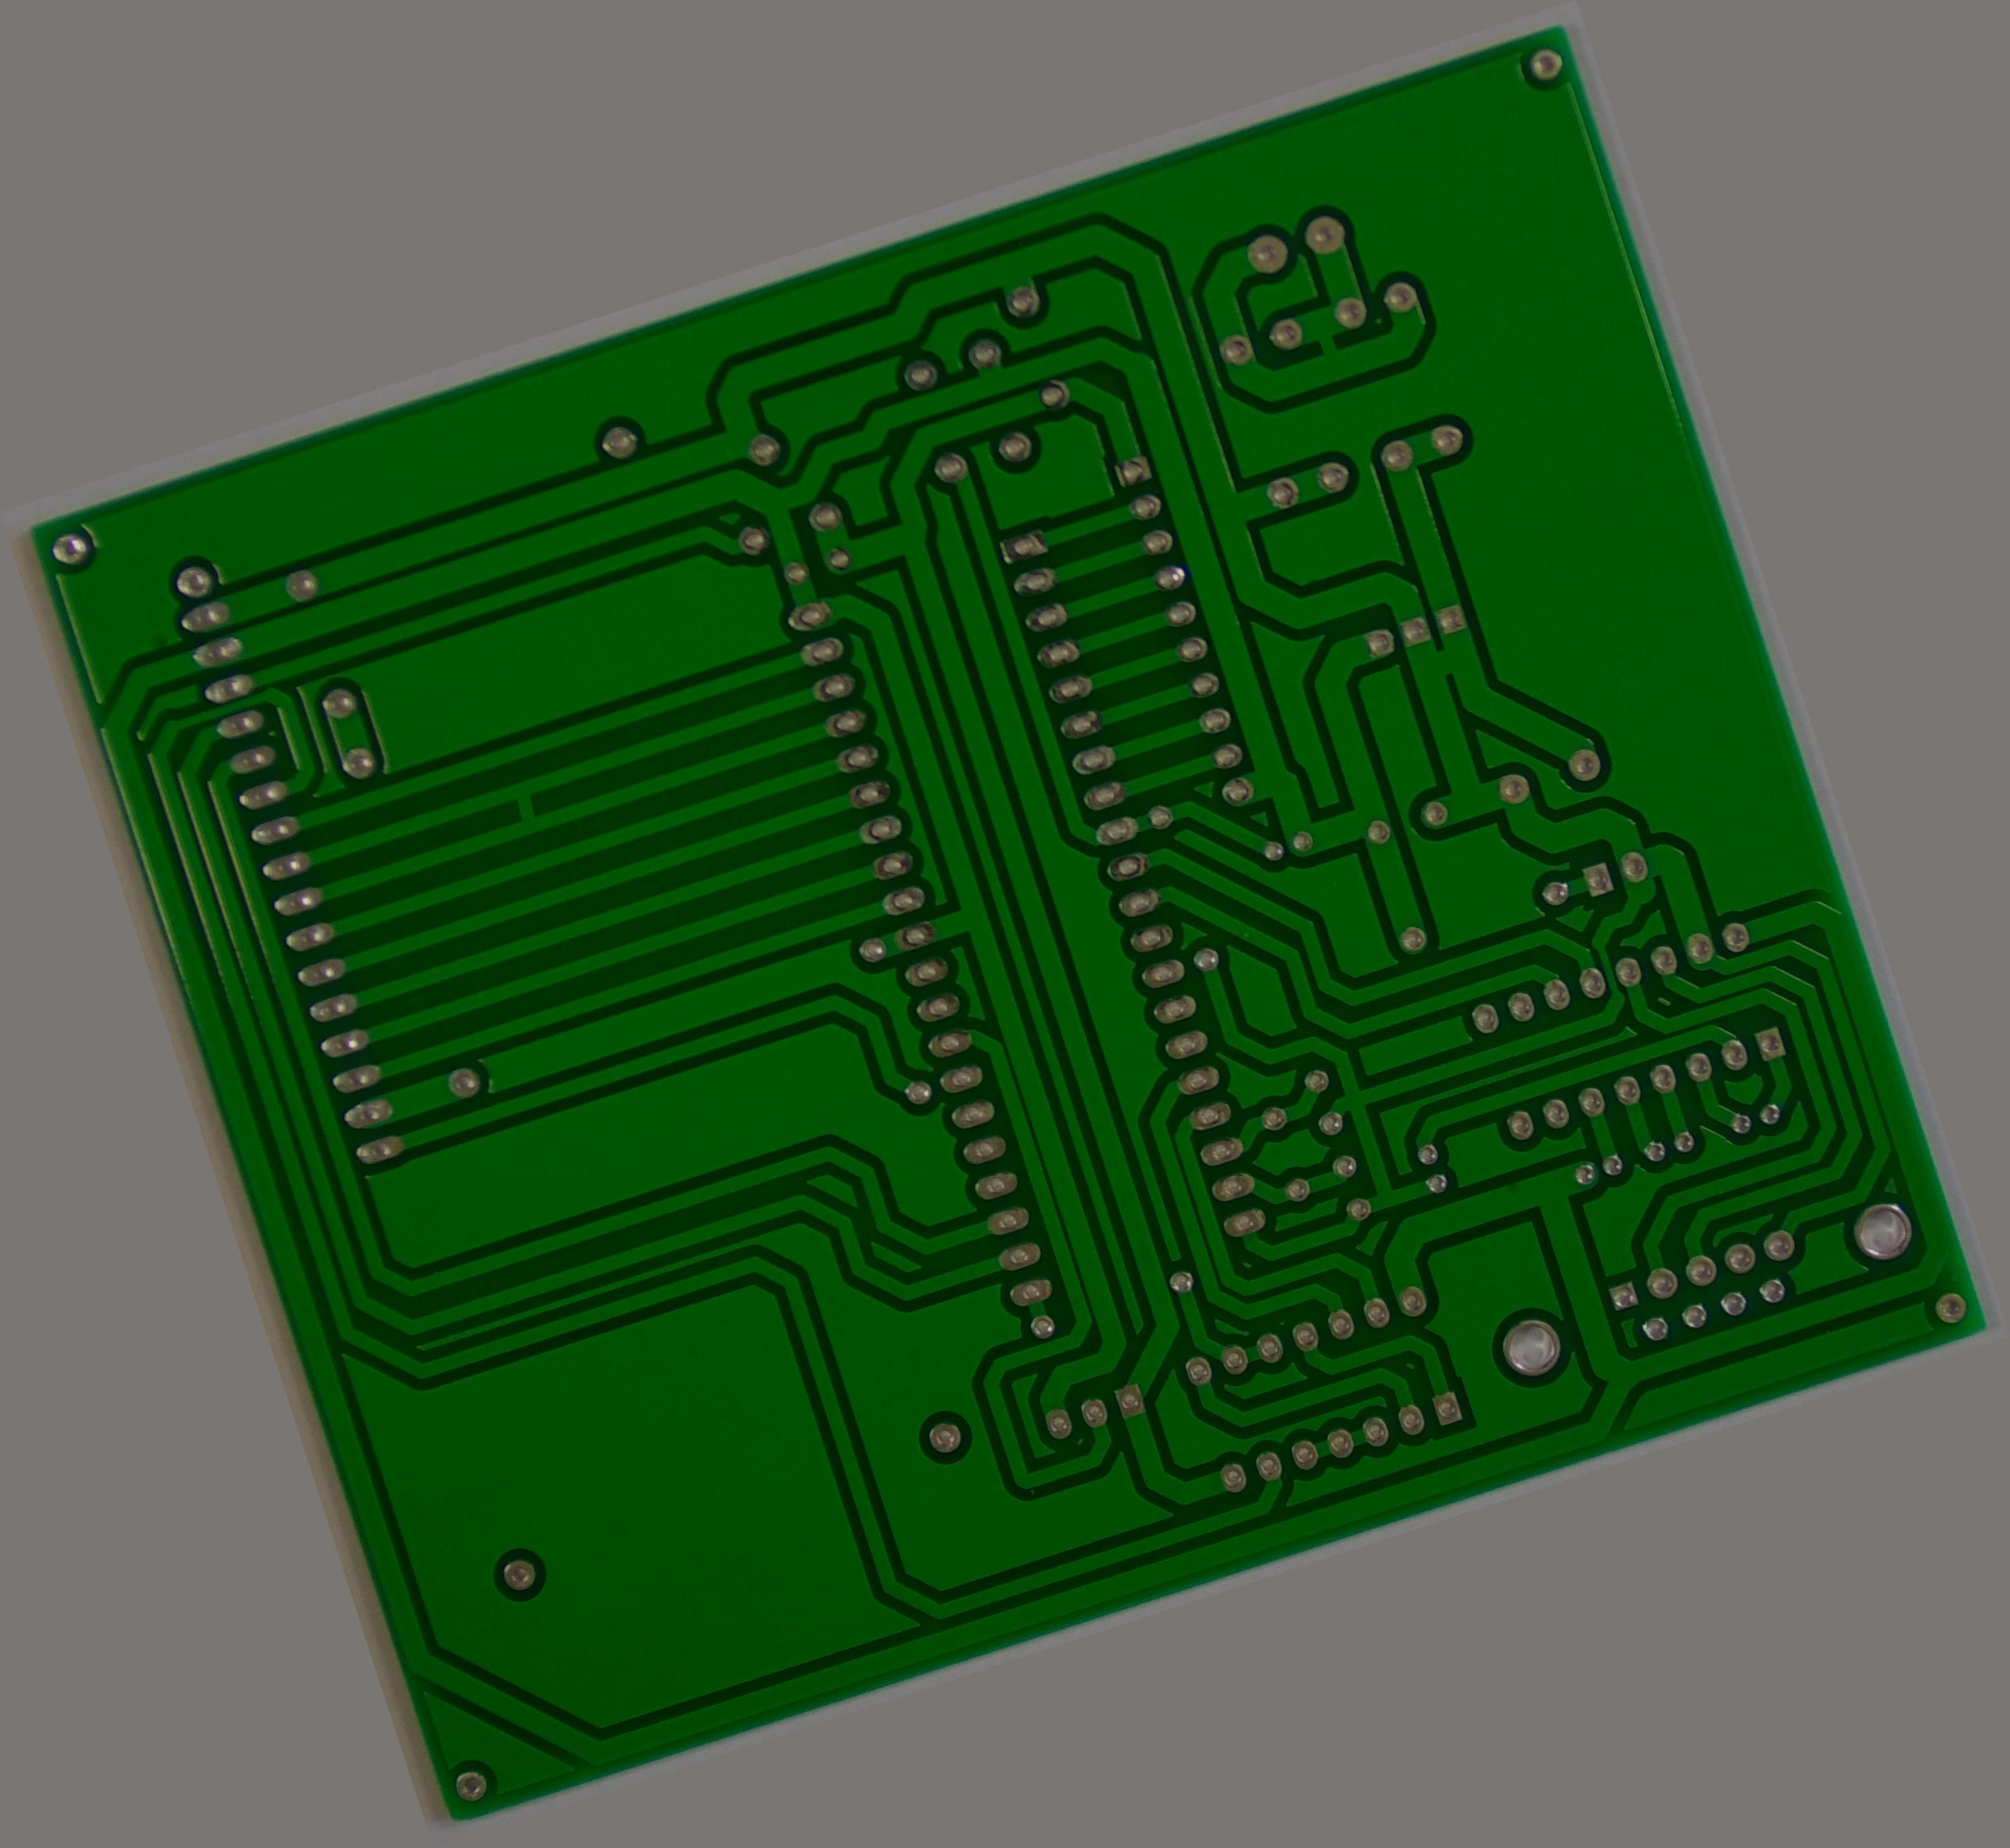short: (488, 769, 562, 844), (1415, 634, 1478, 694), (1299, 319, 1359, 375)
